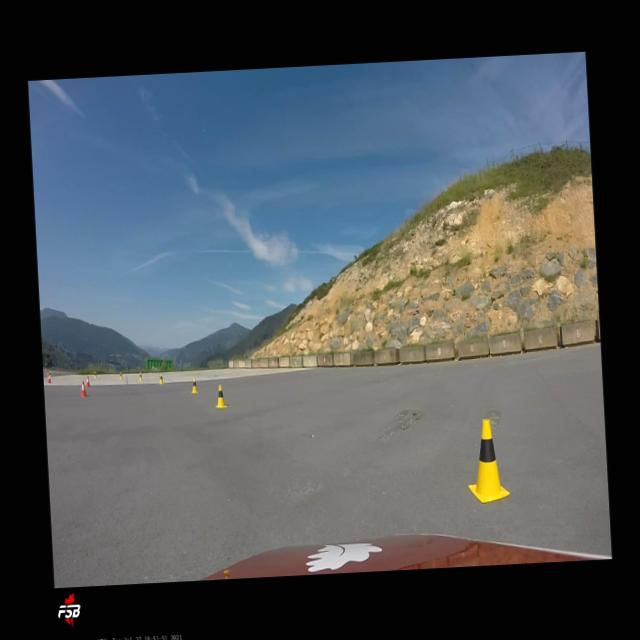orange_cone: (80, 382, 88, 398), (85, 376, 92, 388), (48, 374, 52, 384)
yellow_cone: (464, 418, 510, 504), (214, 384, 227, 408), (190, 376, 198, 394), (158, 374, 164, 384), (138, 372, 142, 381), (49, 370, 52, 378), (94, 372, 97, 378), (120, 372, 122, 379)
